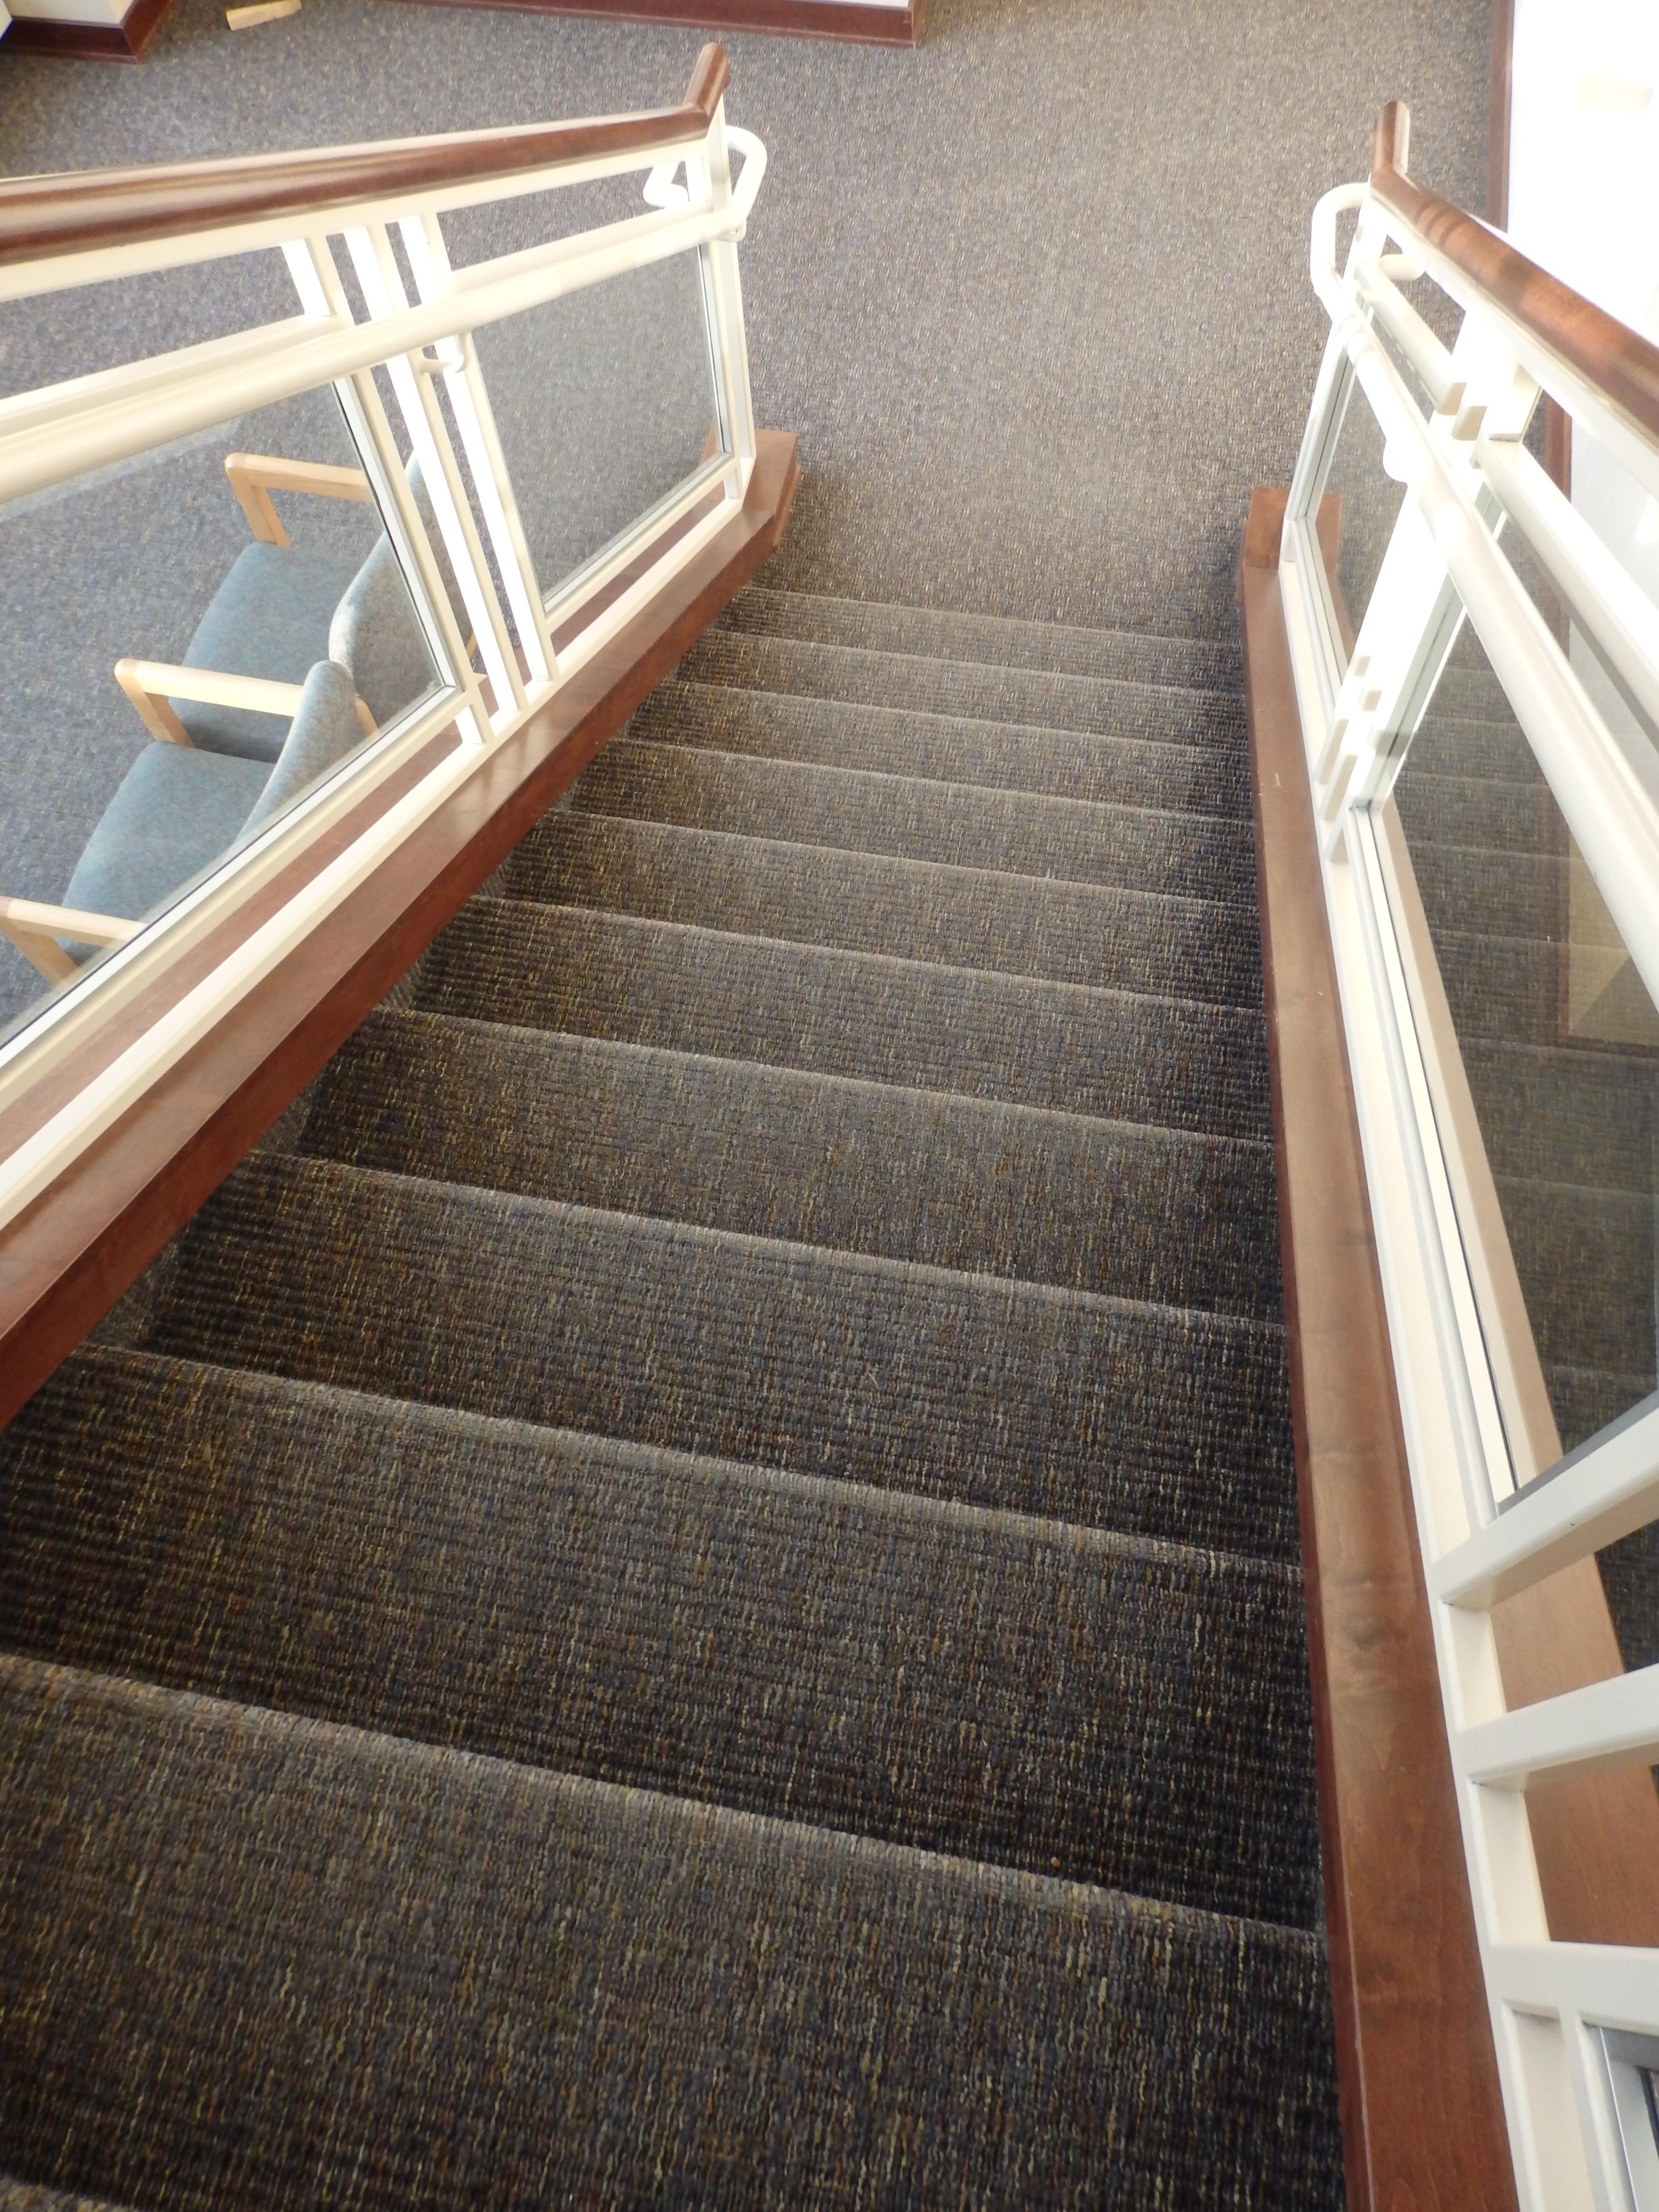stairs_down: (0, 577, 1333, 2212)
